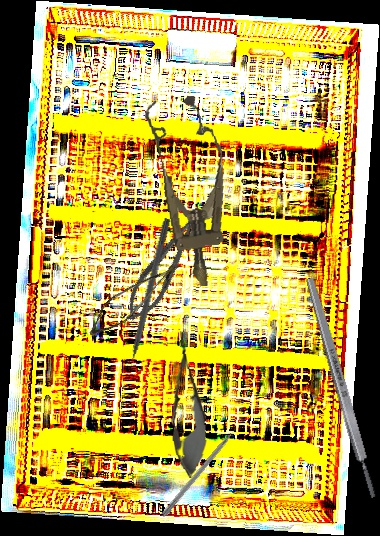Micro Scissor: (84, 242, 182, 351), (163, 329, 211, 480)
Needle Holder: (116, 200, 215, 329)
Pusher: (160, 418, 247, 519), (121, 217, 172, 382)
Scalpel Handle: (303, 276, 380, 500)
Speculum: (141, 92, 240, 292)
